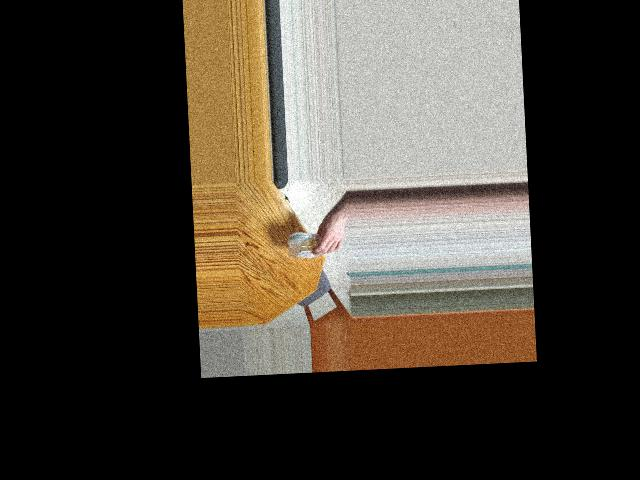cheese: (286, 214, 326, 268)
